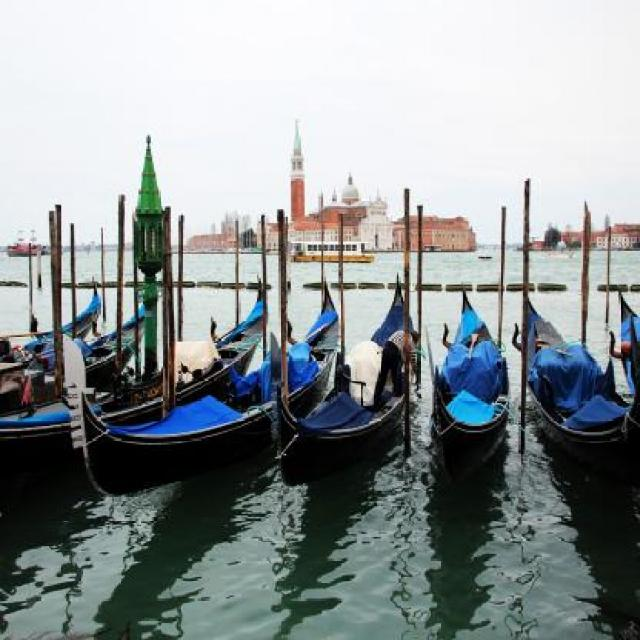ship: (64, 279, 339, 495), (0, 273, 269, 456), (278, 274, 416, 486), (524, 294, 634, 452), (0, 296, 145, 410), (0, 299, 145, 407), (432, 287, 510, 479), (0, 276, 100, 370), (289, 238, 374, 258), (6, 223, 45, 254)
